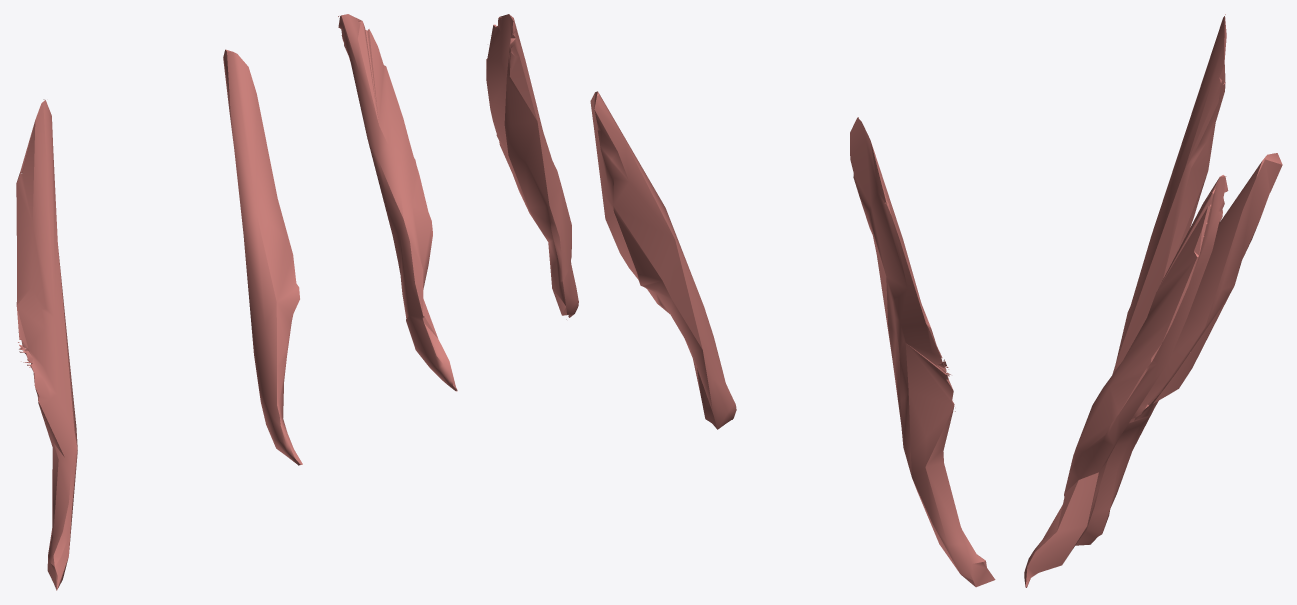
The model's file is fma42402_fj1511.glb.
3 views of the same model, side by side, from view 1: azimuth 30°, elevation 25°; view 2: azimuth 150°, elevation 25°; view 3: azimuth 270°, elevation 25° (orthographic). The views are drawn at different scales.
Parts seen in each view (by area): view 1: FMA42402_FJ1511; view 2: FMA42402_FJ1511; view 3: FMA42402_FJ1511.
Boxes of the visible parts, x1,y1,x2,y2 form: FMA42402_FJ1511: [16, 14, 457, 590]; FMA42402_FJ1511: [486, 14, 995, 587]; FMA42402_FJ1511: [1024, 14, 1282, 587].
Size of the model in its own units: 0.0473 by 0.0515 by 0.0222.
